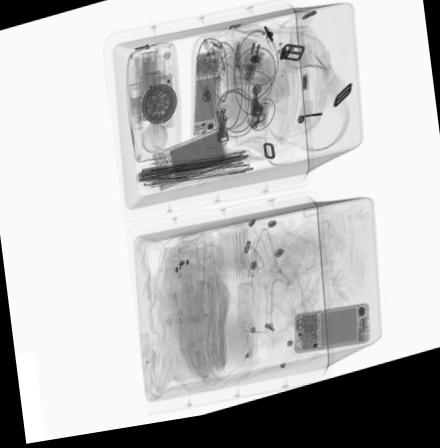Powerbank: (152, 133, 228, 199)
